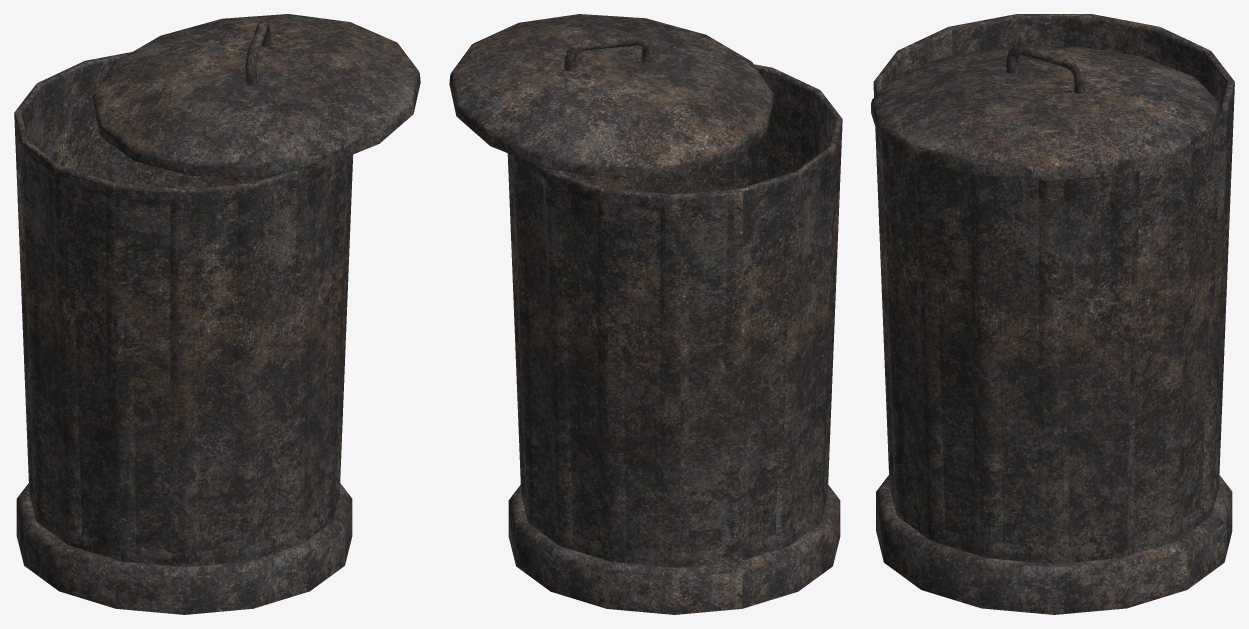
The model's file is TrashBin.FBX.
The picture shows the model from 3 angles, left to right: view 1: azimuth 30°, elevation 25°; view 2: azimuth 150°, elevation 25°; view 3: azimuth 270°, elevation 25°; orthographic projection. The views are drawn at different scales.
Visible parts, largest first — view 1: TrashBin; view 2: TrashBin; view 3: TrashBin.
Boxes of the visible parts, box(x1,y1,x2,y2) form: TrashBin: box(14, 14, 420, 614); TrashBin: box(449, 14, 842, 614); TrashBin: box(871, 14, 1234, 614).
Bounding box in the file's own units: 587 × 780 × 490.
